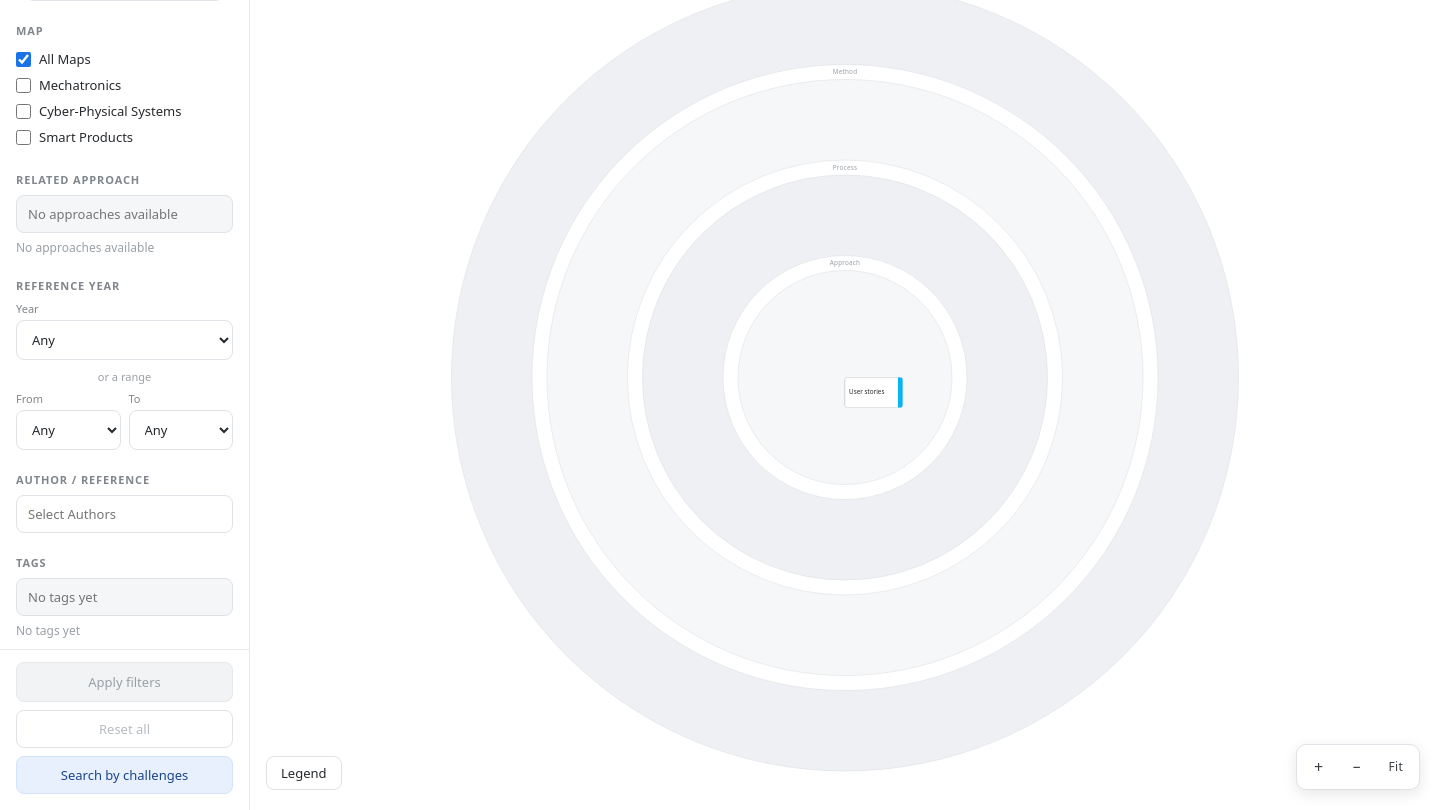
Scenario: the challenge list › narrows the list by name or description
(page scrolled)
Click the button "Search by challenges". click: (124, 775)
box: [16,756,233,794]
(page scrolled)
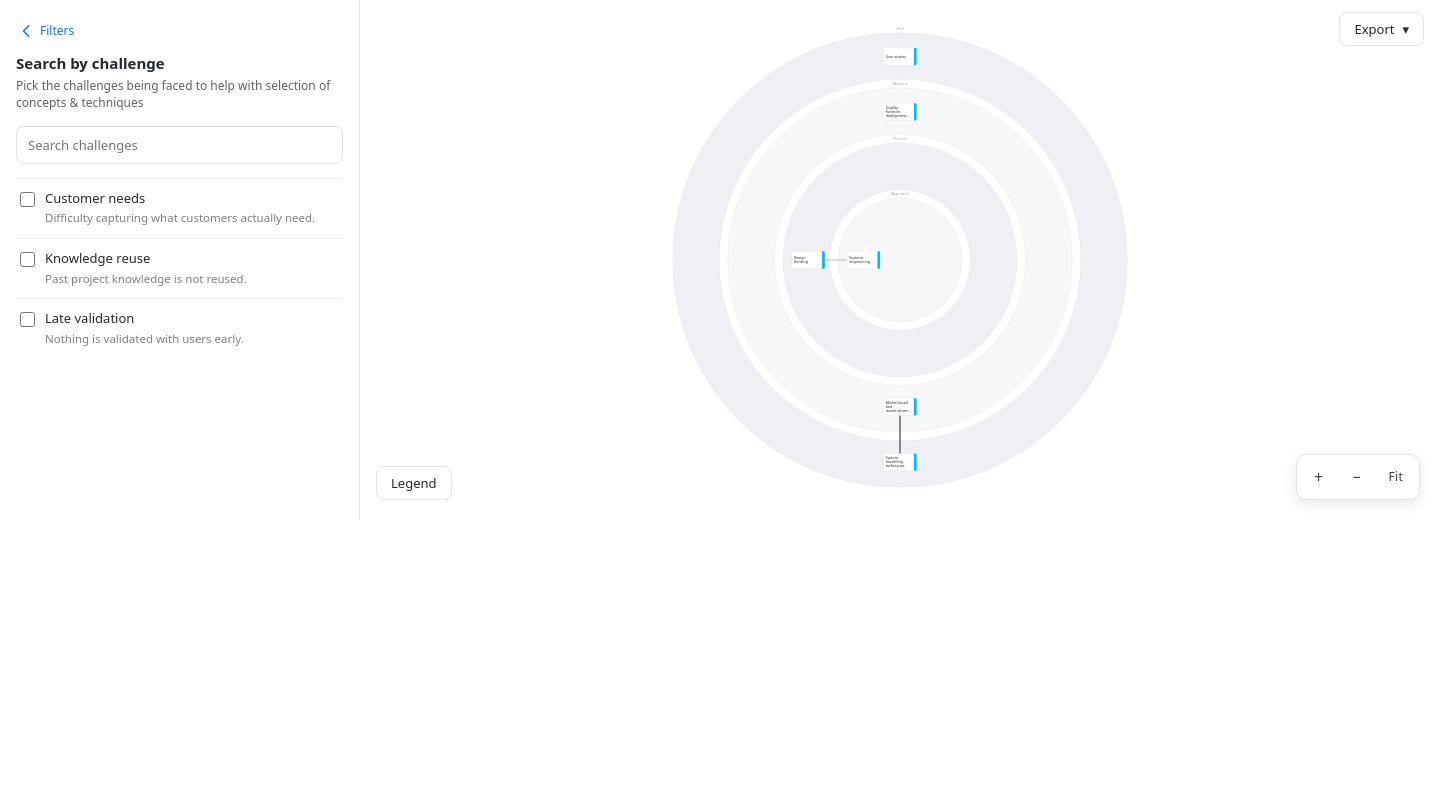
Type "reuse" into the search field labelled "Search challenges". click: (180, 145)
box: [16,126,343,164]
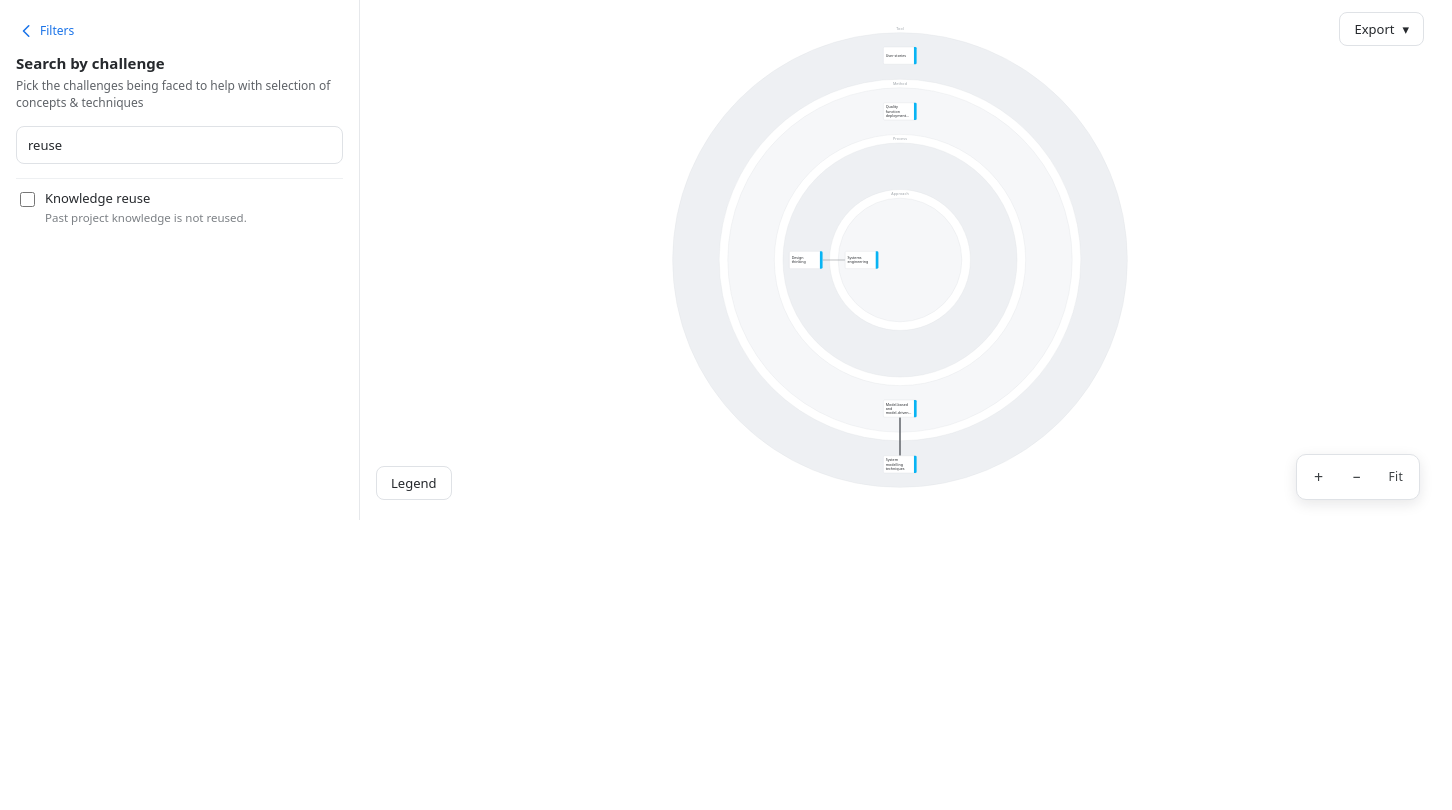
Result: the text "Knowledge reuse" is shown at [45,189,150,207]
Result: the text "Customer needs" is gone
